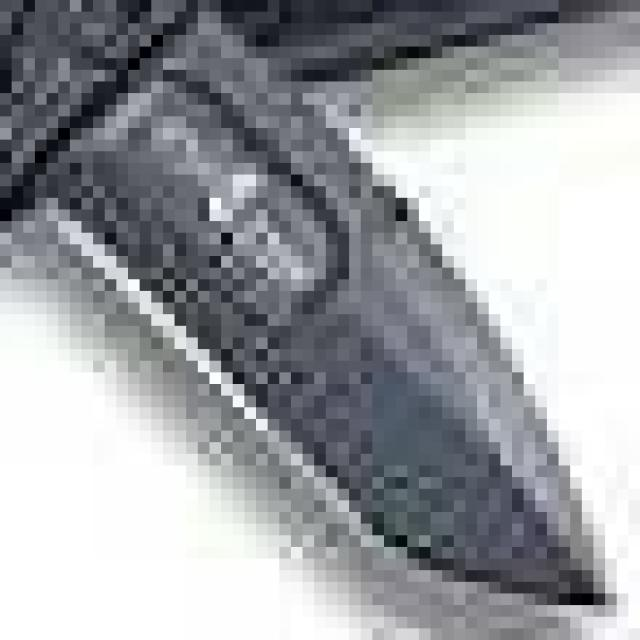Knife: (0, 0, 617, 617)
